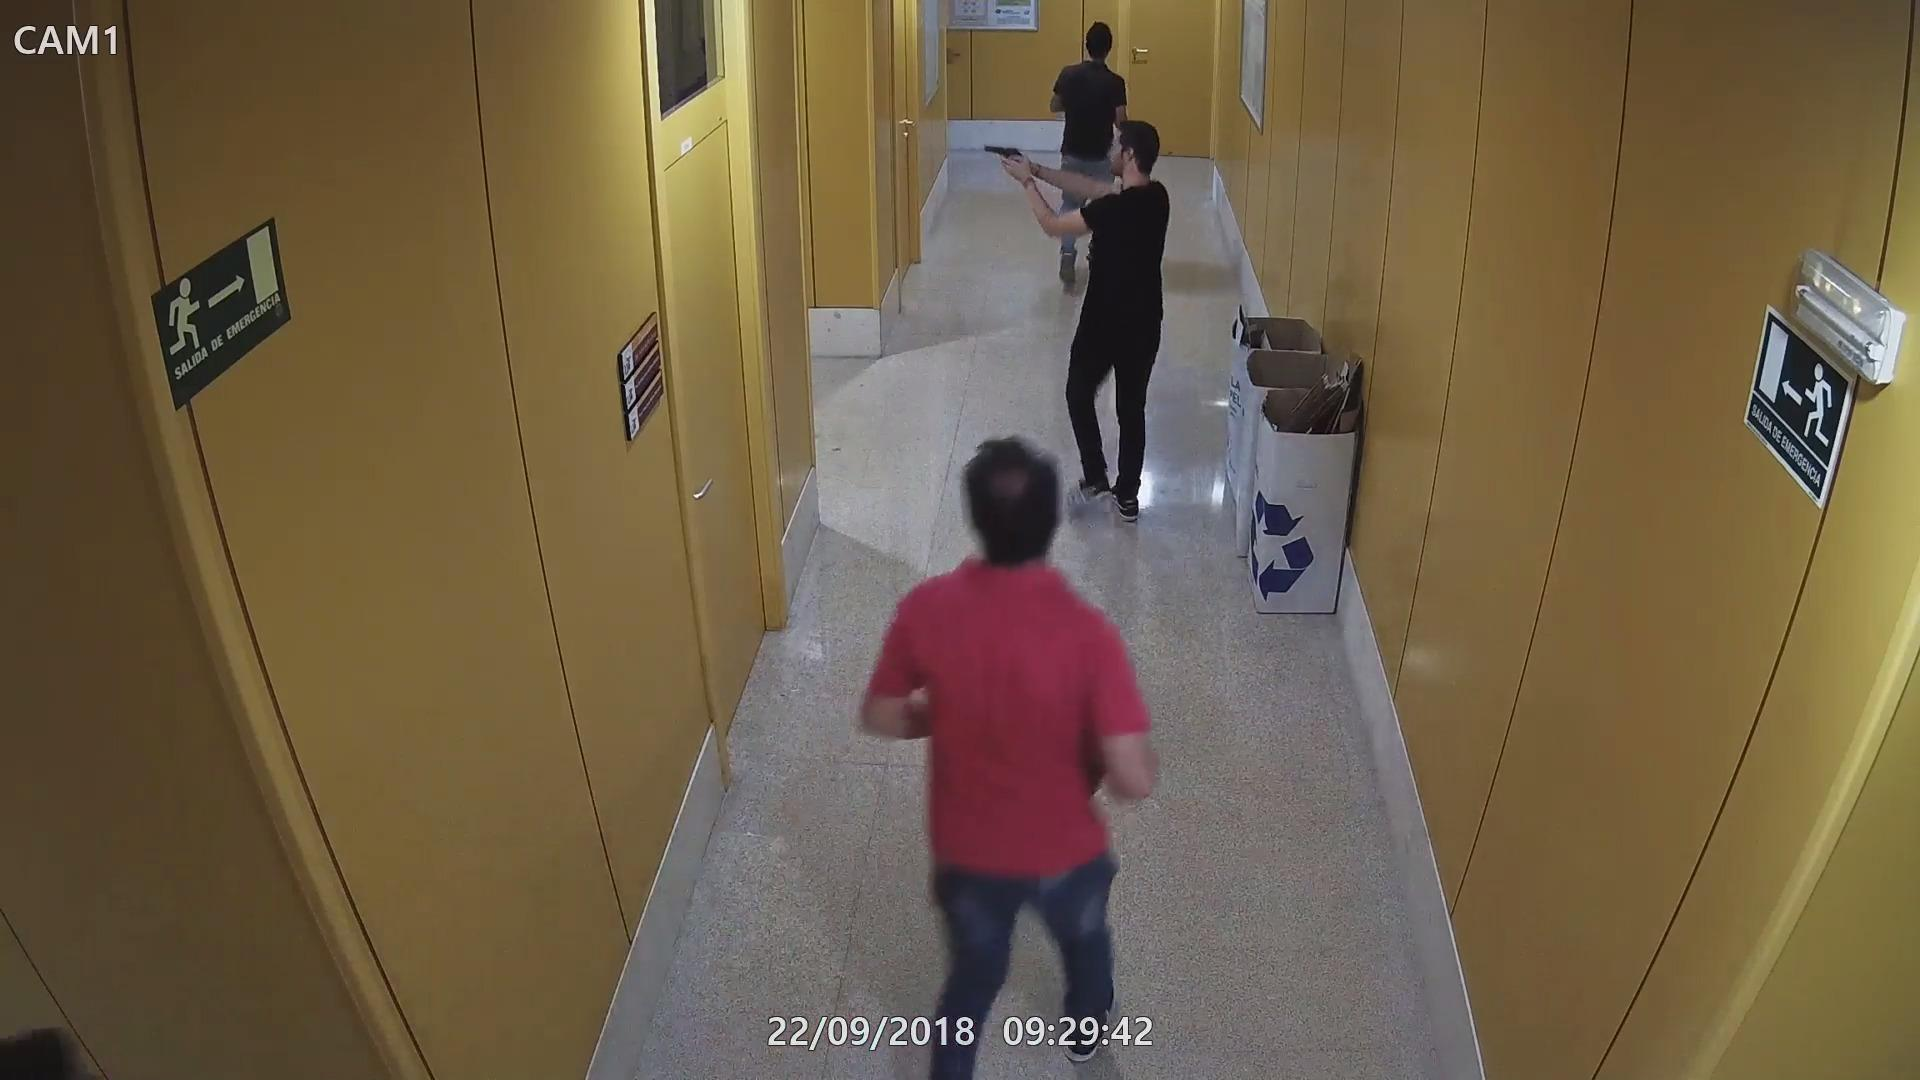Handgun: (978, 140, 1034, 187)
